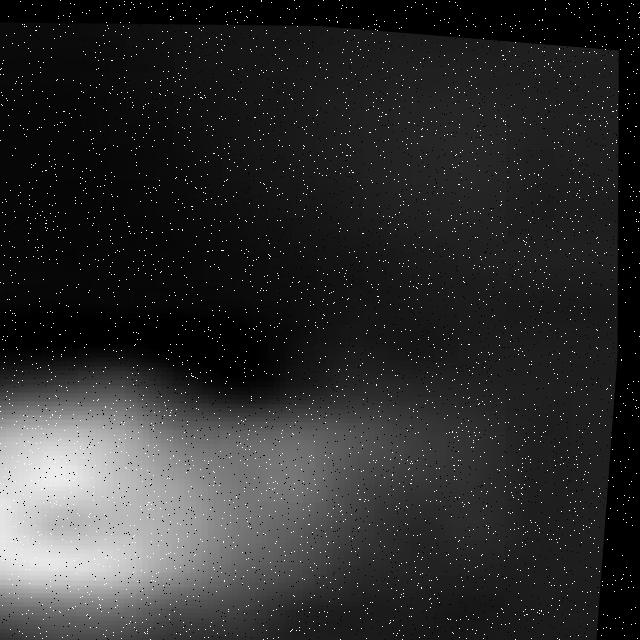person: (1, 331, 435, 640)
